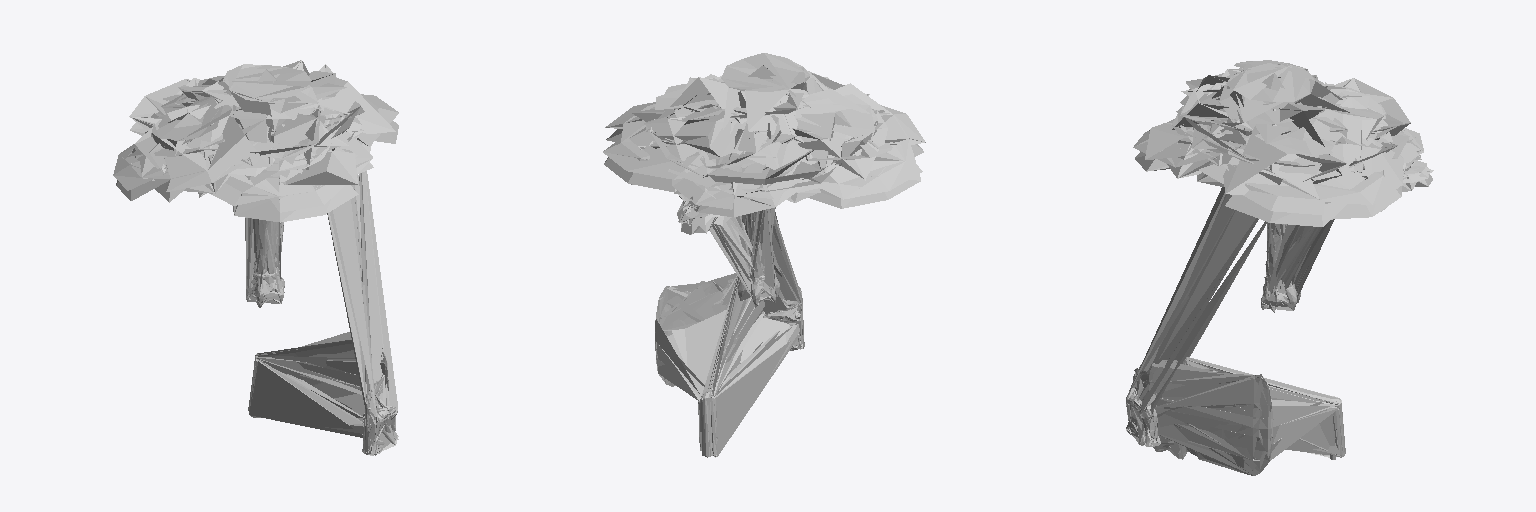
File: cellWilds_Doline_Proxy-sharedassets3.assets-689.obj
The picture shows the model from 3 angles: view 1: azimuth 30°, elevation 25°; view 2: azimuth 150°, elevation 25°; view 3: azimuth 270°, elevation 25°; orthographic projection.
Parts seen in each view (by area): view 1: cellWilds_Doline_Proxy_3, cellWilds_Doline_Proxy_1, cellWilds_Doline_Proxy_6, cellWilds_Doline_Proxy_5, cellWilds_Doline_Proxy_4; view 2: cellWilds_Doline_Proxy_3, cellWilds_Doline_Proxy_1, cellWilds_Doline_Proxy_4, cellWilds_Doline_Proxy_6; view 3: cellWilds_Doline_Proxy_3, cellWilds_Doline_Proxy_1, cellWilds_Doline_Proxy_4, cellWilds_Doline_Proxy_6.
Part boxes in pixels (x1,y1,x2,y2): cellWilds_Doline_Proxy_3: (113, 60, 398, 455); cellWilds_Doline_Proxy_1: (129, 64, 359, 295); cellWilds_Doline_Proxy_6: (246, 220, 284, 307); cellWilds_Doline_Proxy_5: (247, 218, 283, 306); cellWilds_Doline_Proxy_4: (245, 218, 282, 298); cellWilds_Doline_Proxy_3: (603, 53, 925, 457); cellWilds_Doline_Proxy_1: (631, 53, 844, 295); cellWilds_Doline_Proxy_4: (720, 200, 778, 302); cellWilds_Doline_Proxy_6: (738, 200, 779, 307); cellWilds_Doline_Proxy_3: (1126, 60, 1432, 475); cellWilds_Doline_Proxy_1: (1181, 63, 1433, 296); cellWilds_Doline_Proxy_4: (1263, 224, 1310, 308); cellWilds_Doline_Proxy_6: (1261, 223, 1300, 312).
Bounding box in the file's own units: 116 × 146 × 109.